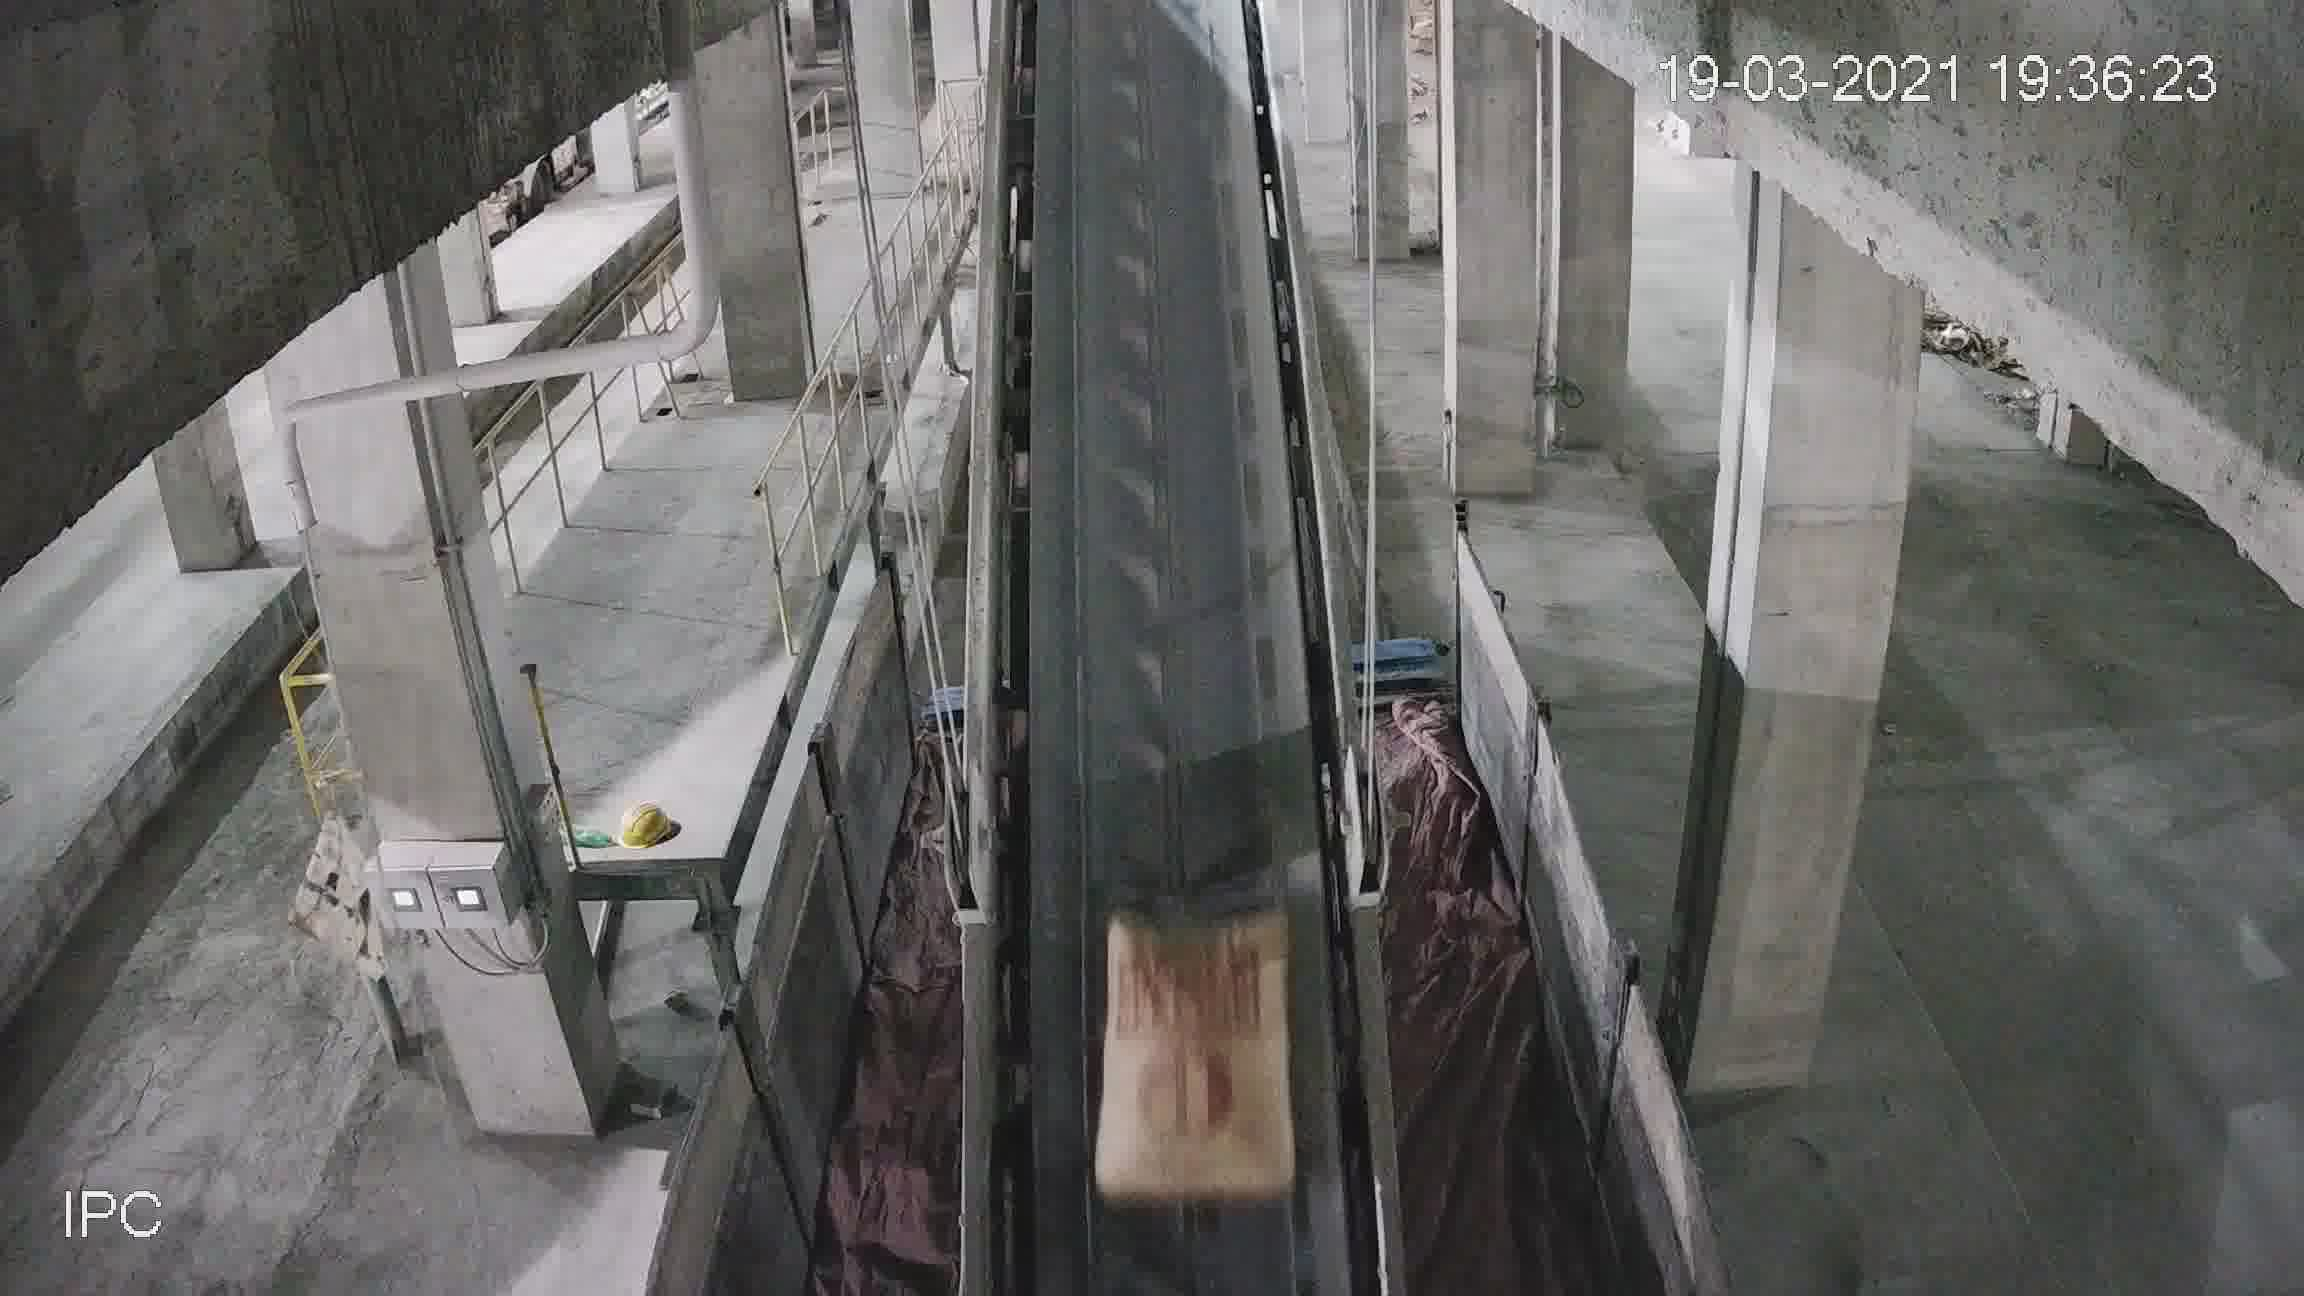bag: (1101, 921, 1290, 1211)
belt: (965, 116, 1389, 1263)
